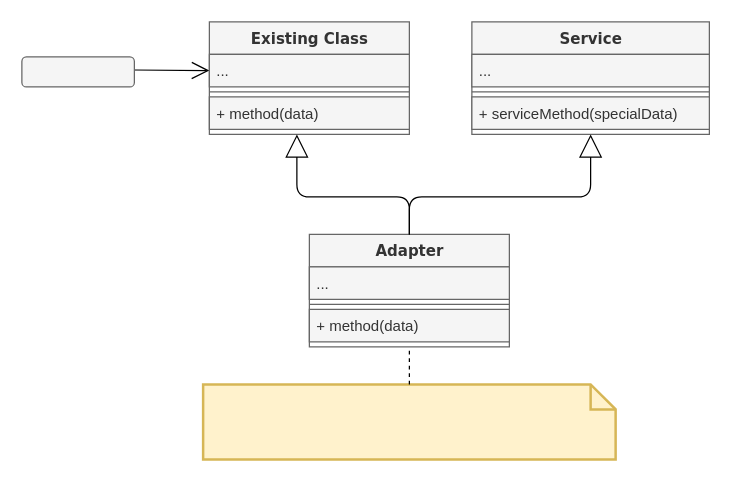
Some shapes in this 731 by 483 pixel diagram are drawn without their labels. The shapes that lost their labels are listed below. From the top down, each one's centre as x and y in pixels, then its label:
At point (77, 71): "Client".
At point (408, 421): "specialData = convertToServiceFormat(data) return serviceMethod(specialData)".
